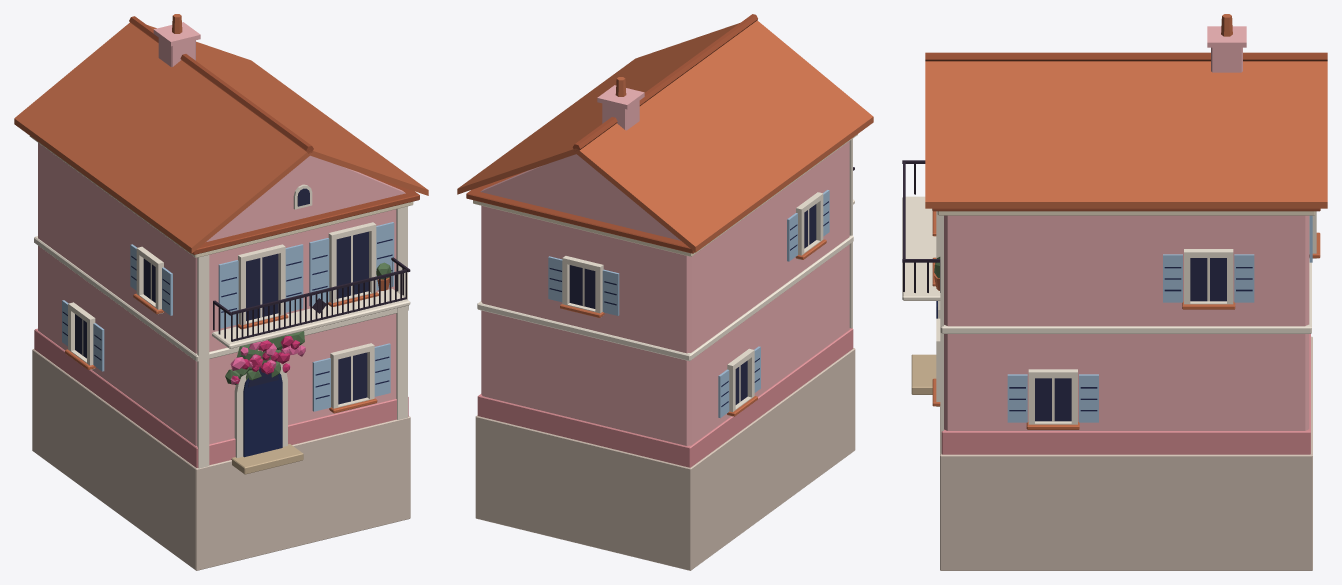
File: med_house_gable.glb
3 renders of one model, left to right at view 1: azimuth 30°, elevation 25°; view 2: azimuth 150°, elevation 25°; view 3: azimuth 270°, elevation 25°, orthographic. The views are drawn at different scales.
Parts seen in each view (by area): view 1: med_house_gable; view 2: med_house_gable; view 3: med_house_gable.
Part boxes in pixels (<box>): med_house_gable: <box>14,14,428,570</box>; med_house_gable: <box>457,14,873,570</box>; med_house_gable: <box>902,14,1327,570</box>.
Bounding box in the file's own units: 6.8 × 11.97 × 9.3.
